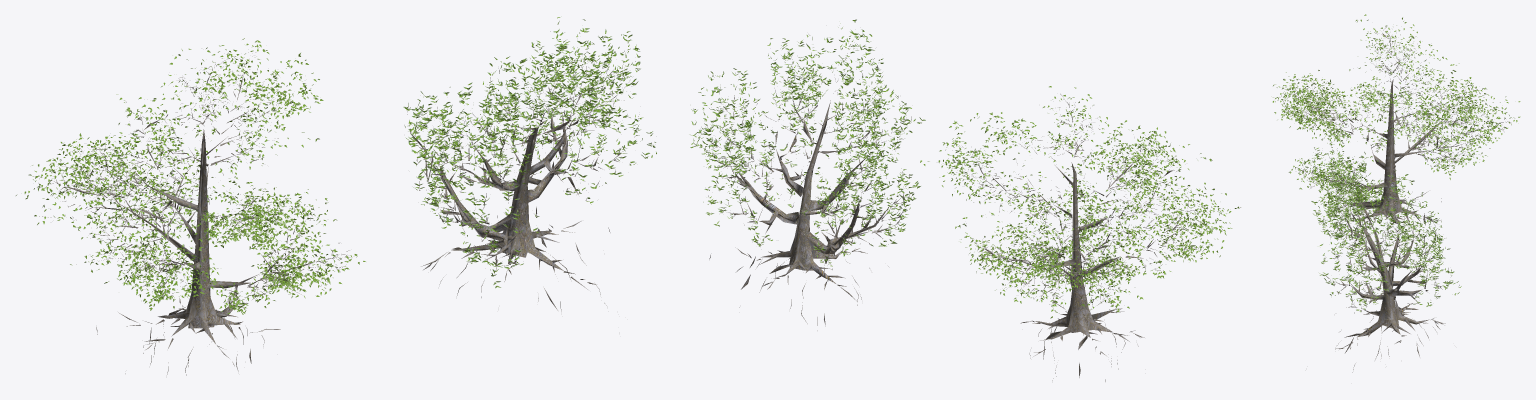
3 views of the same model, side by side, from view 1: azimuth 30°, elevation 25°; view 2: azimuth 150°, elevation 25°; view 3: azimuth 270°, elevation 25° (orthographic). The views are drawn at different scales.
Visible parts, largest first — view 1: Tree_Leaves.001_3, Tree_Leaves_2, Tree_Bark.001_1, Tree_Bark_0; view 2: Tree_Leaves.001_3, Tree_Leaves_2, Tree_Bark_0, Tree_Bark.001_1; view 3: Tree_Leaves.001_3, Tree_Leaves_2, Tree_Bark.001_1, Tree_Bark_0.
Part boxes in pixels (x1=…): Tree_Leaves.001_3: x1=16, y1=38, x2=365, y2=314; Tree_Leaves_2: x1=403, y1=16, x2=656, y2=288; Tree_Bark.001_1: x1=38, y1=52, x2=356, y2=375; Tree_Bark_0: x1=407, y1=31, x2=651, y2=311; Tree_Leaves.001_3: x1=920, y1=86, x2=1239, y2=318; Tree_Leaves_2: x1=689, y1=19, x2=925, y2=266; Tree_Bark_0: x1=701, y1=42, x2=911, y2=330; Tree_Bark.001_1: x1=948, y1=94, x2=1241, y2=381; Tree_Leaves.001_3: x1=1272, y1=14, x2=1520, y2=219; Tree_Leaves_2: x1=1311, y1=141, x2=1461, y2=311; Tree_Bark.001_1: x1=1282, y1=19, x2=1510, y2=250; Tree_Bark_0: x1=1323, y1=153, x2=1459, y2=372.
Size of the model in its own units: 16.56 by 9.2 by 8.76.
Materials: 2 (2 with a texture image).
